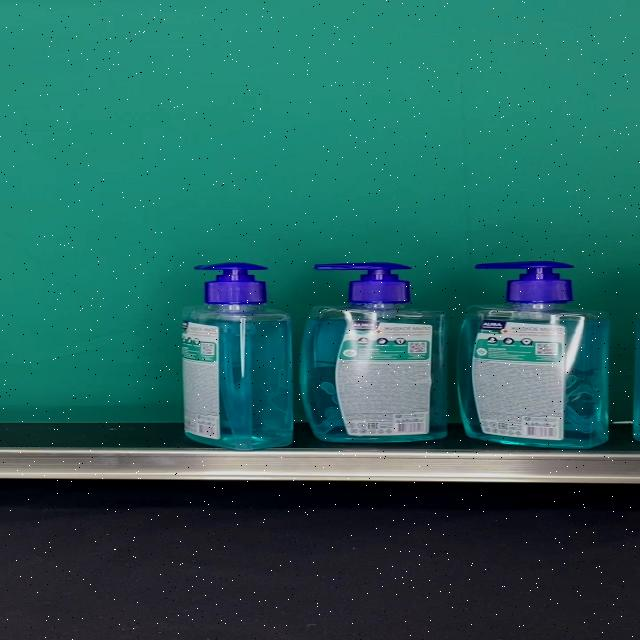Bottle: (457, 261, 609, 449), (300, 262, 447, 442), (180, 262, 294, 450)
Cap: (474, 261, 574, 303), (313, 262, 411, 304), (194, 263, 269, 304)
